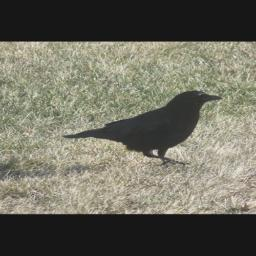Crow: (66, 88, 227, 165)
